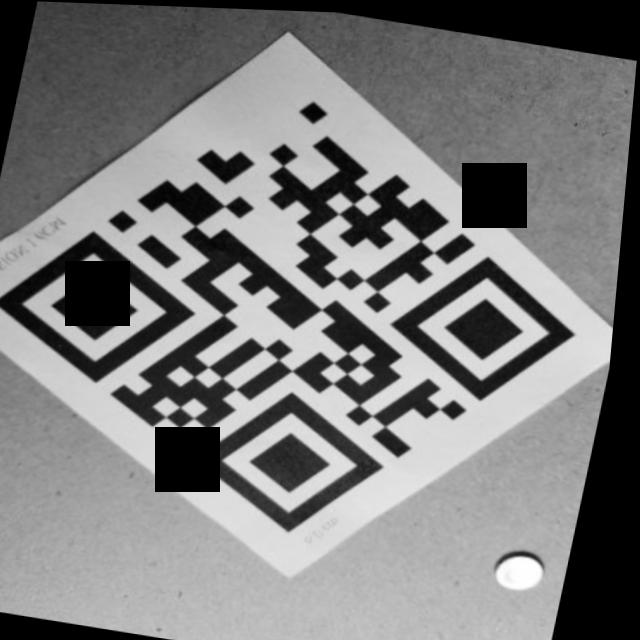QR_CODE: (0, 40, 637, 584)
